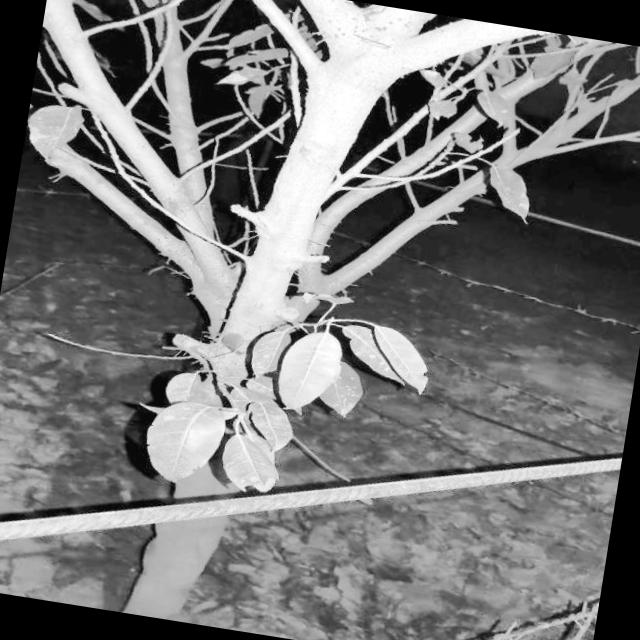Tree: (37, 0, 502, 640)
